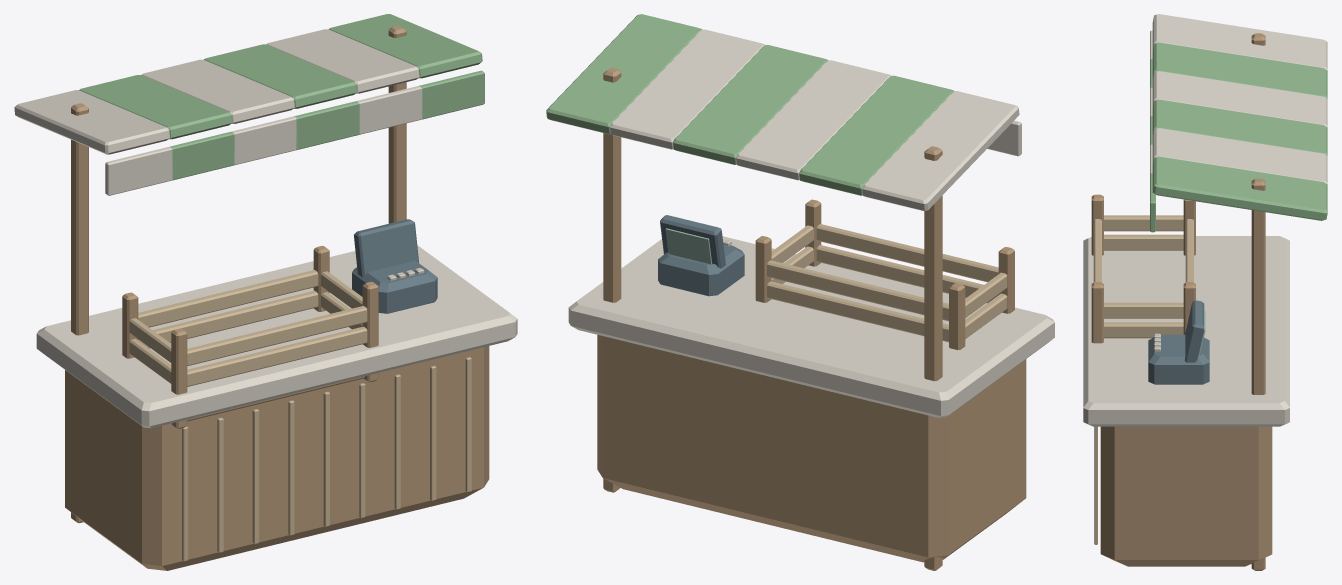
File: market_stall.glb
3 views of the same model, side by side, from view 1: azimuth 30°, elevation 25°; view 2: azimuth 150°, elevation 25°; view 3: azimuth 270°, elevation 25° (orthographic). The views are drawn at different scales.
Parts seen in each view (by area): view 1: market_stall; view 2: market_stall; view 3: market_stall.
Part boxes in pixels (x1=…): market_stall: x1=14, y1=14, x2=517, y2=570; market_stall: x1=546, y1=14, x2=1054, y2=570; market_stall: x1=1083, y1=14, x2=1327, y2=570.
Size of the model in its own units: 2.66 by 2.86 by 1.6.
